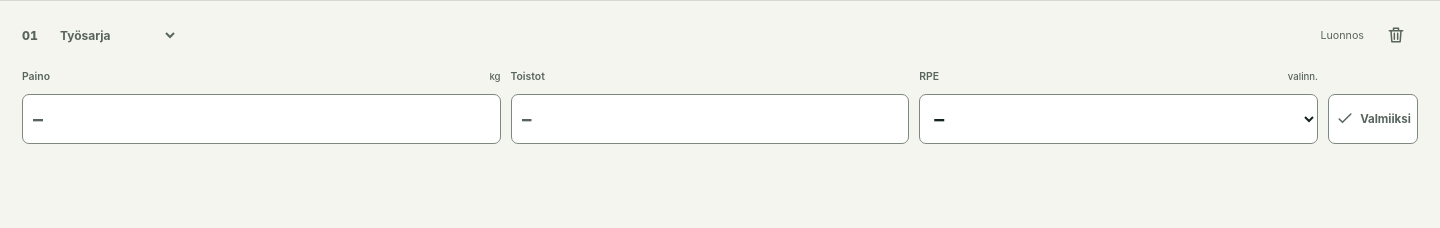
it: keeps entered values and announces an error after a network failure
Type "60,5" into the field labelled "Paino kg" at coordinates (261, 119), box [22,94,500,144]
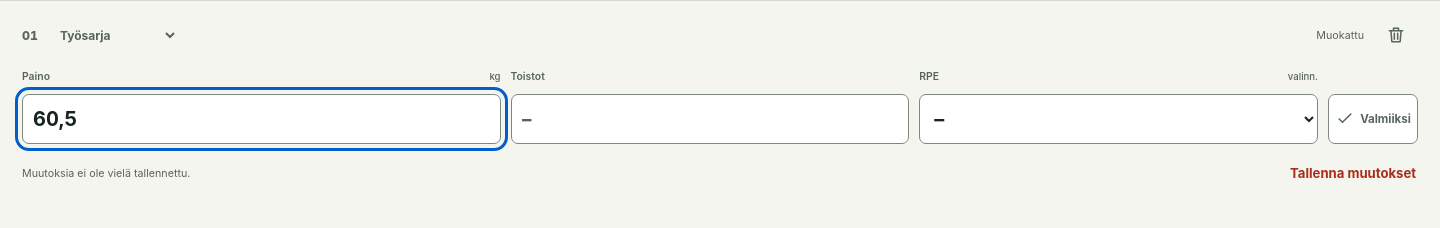
Type "8" into the field labelled "Toistot" at coordinates (710, 119), box [510,94,909,144]
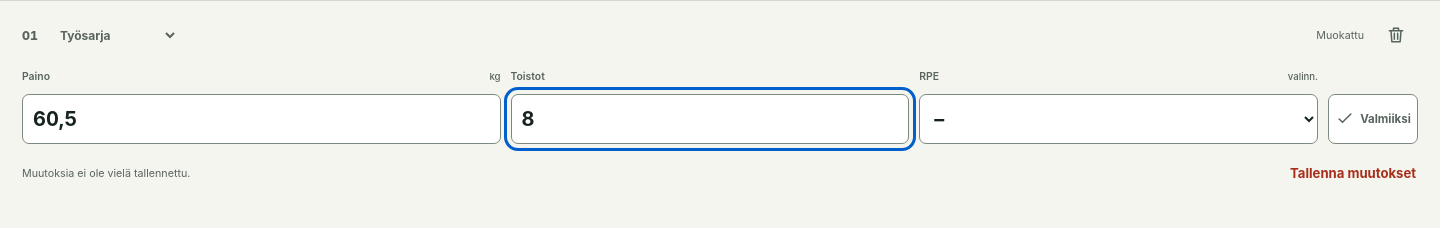
Click the button with aria-label "Merkitse sarja 1 valmiiksi" at coordinates (1373, 119), box [1328,94,1418,144]
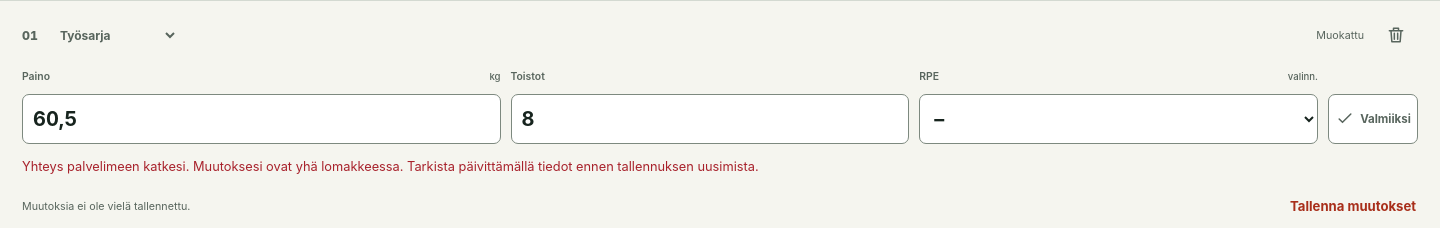
Result: the message shows "Yhteys palvelimeen katkesi" at [22,159,759,174]
